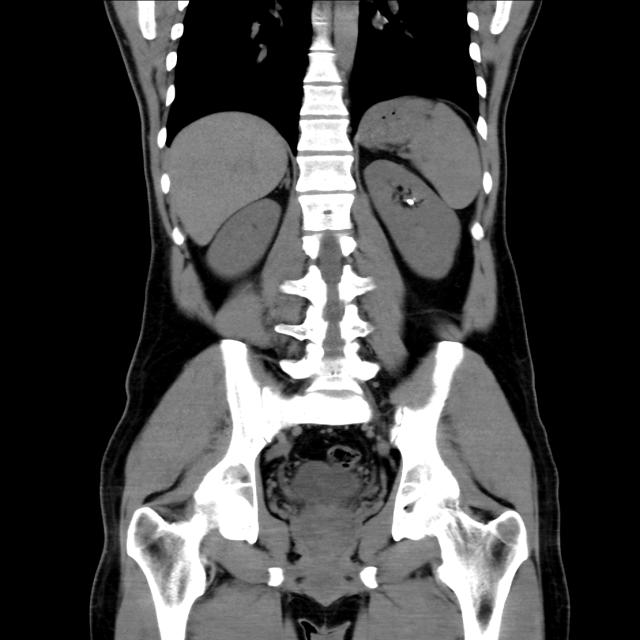kidneystone: (399, 189, 424, 208)
